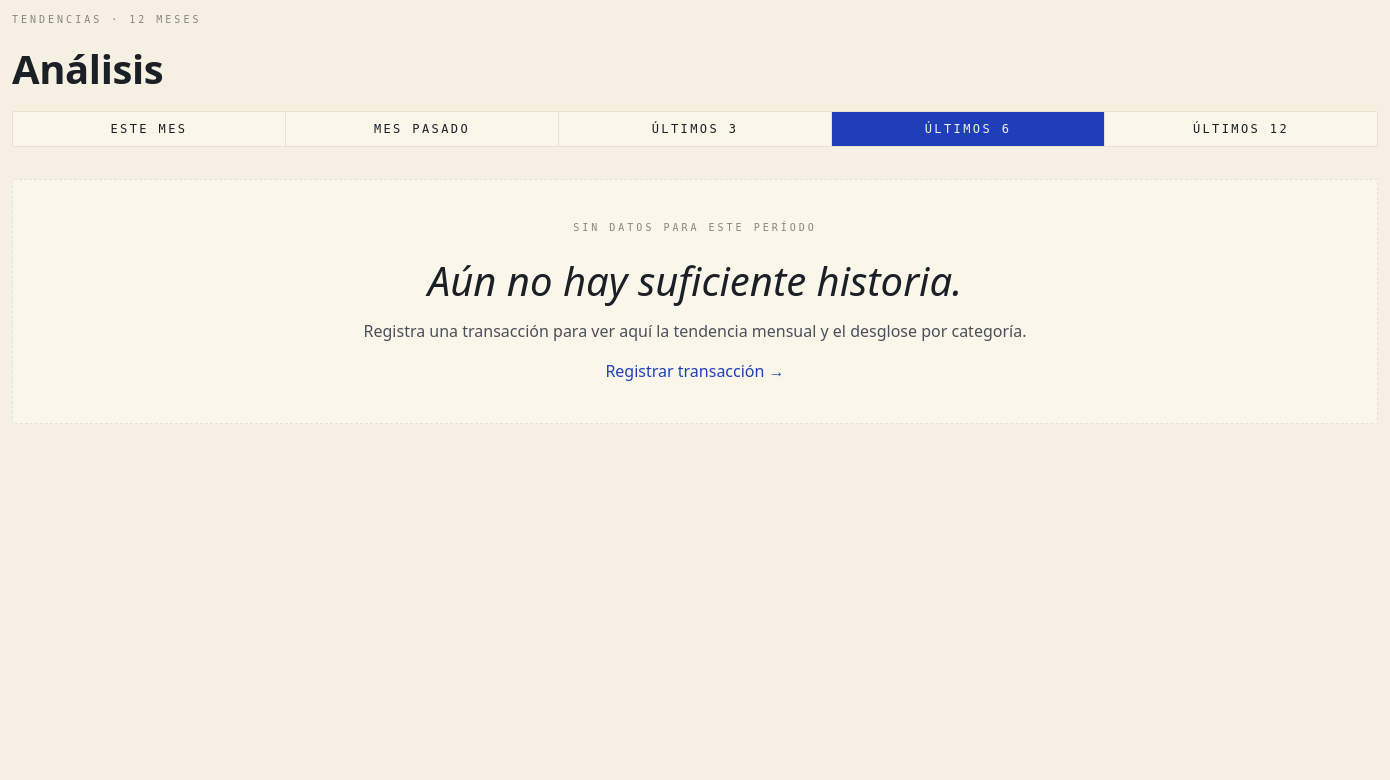
Test: InsightsPage — totals parity with Dashboard (REL-001) › MonthlySparkline container has explicit minHeight (signature fill the parent)
Click the button with test id "period-last_12". click: click(1241, 129)
box: top-left (1105, 112), bottom-right (1377, 146)
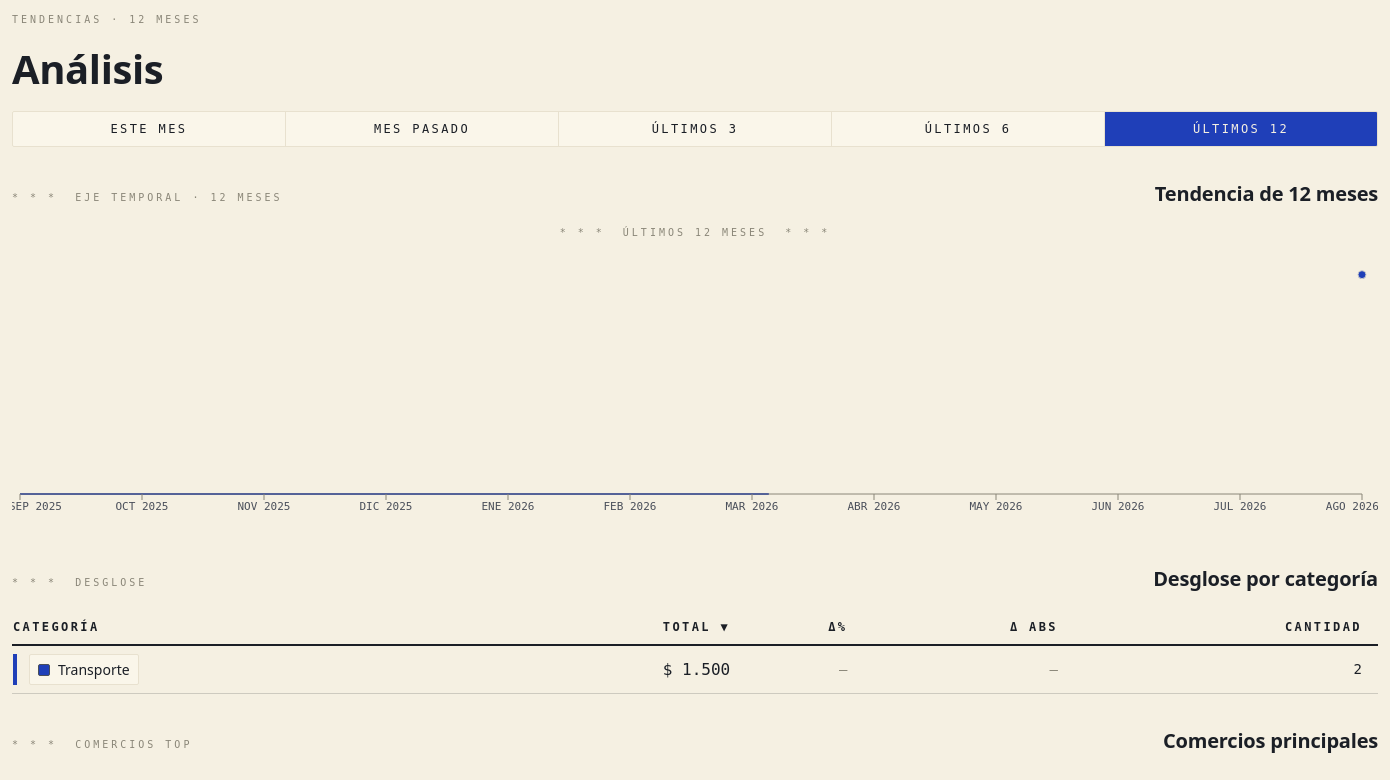
Check: the element with test id "monthly-sparkline" is shown, box top-left (12, 252), bottom-right (1378, 532)
